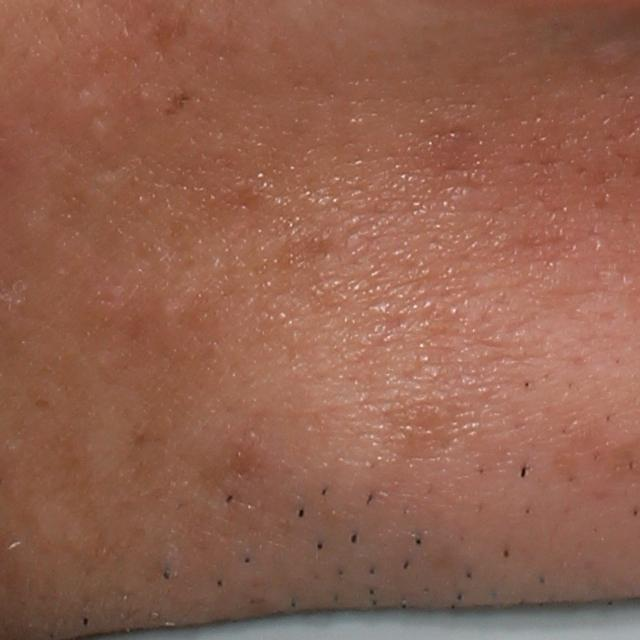hypertrophic_scar: (584, 36, 635, 73)
